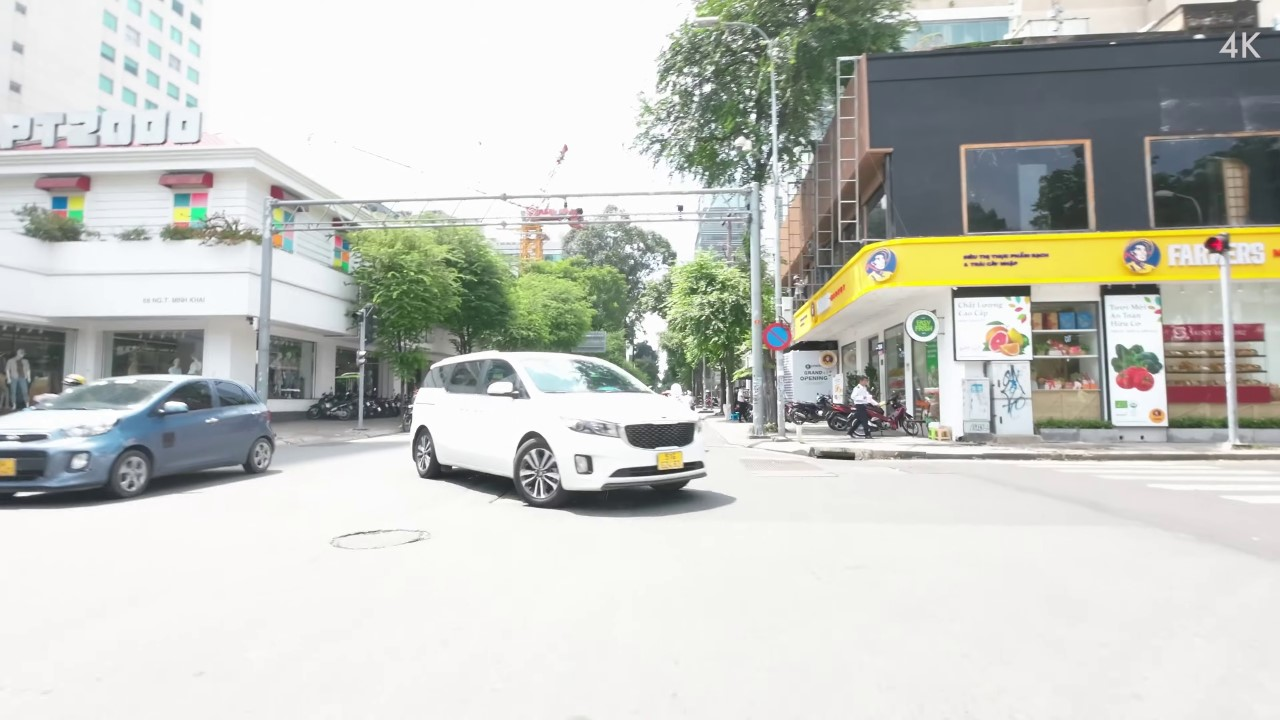cam_do_xe: (762, 320, 792, 352)
